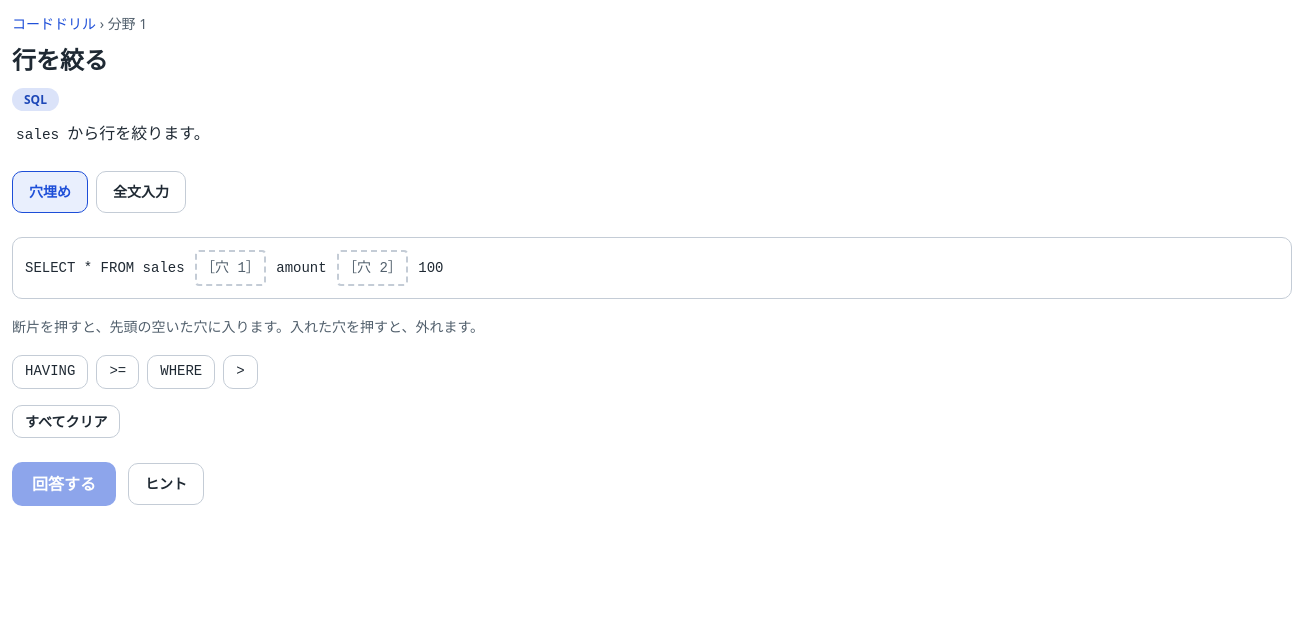
it: CodeDrillPlayer(全文入力) › ヒント_1 回目は穴を伏せたコード_2 回目で最初の穴を明かす_入力欄は書き換えない
The image size is (1304, 628).
Click the tab "全文入力": (141, 192) top-left (96, 171), bottom-right (186, 213)
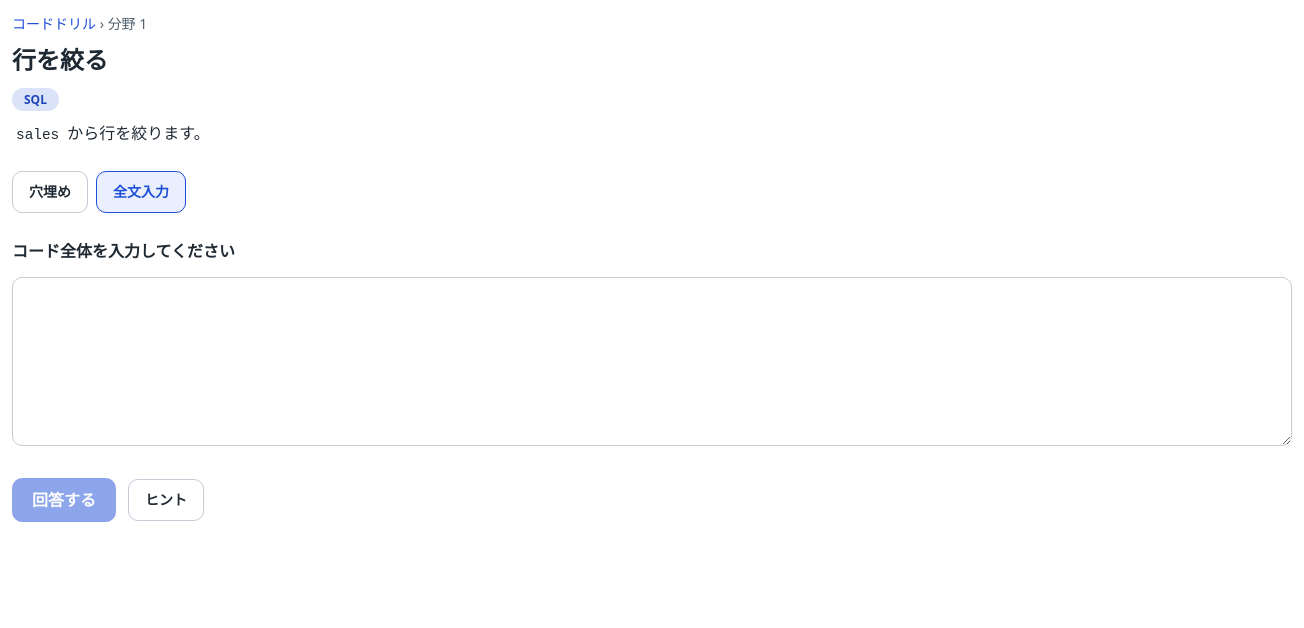
In the text box labelled "コード全体を入力してください": (652, 361) top-left (12, 277), bottom-right (1292, 446), type "書きかけ"
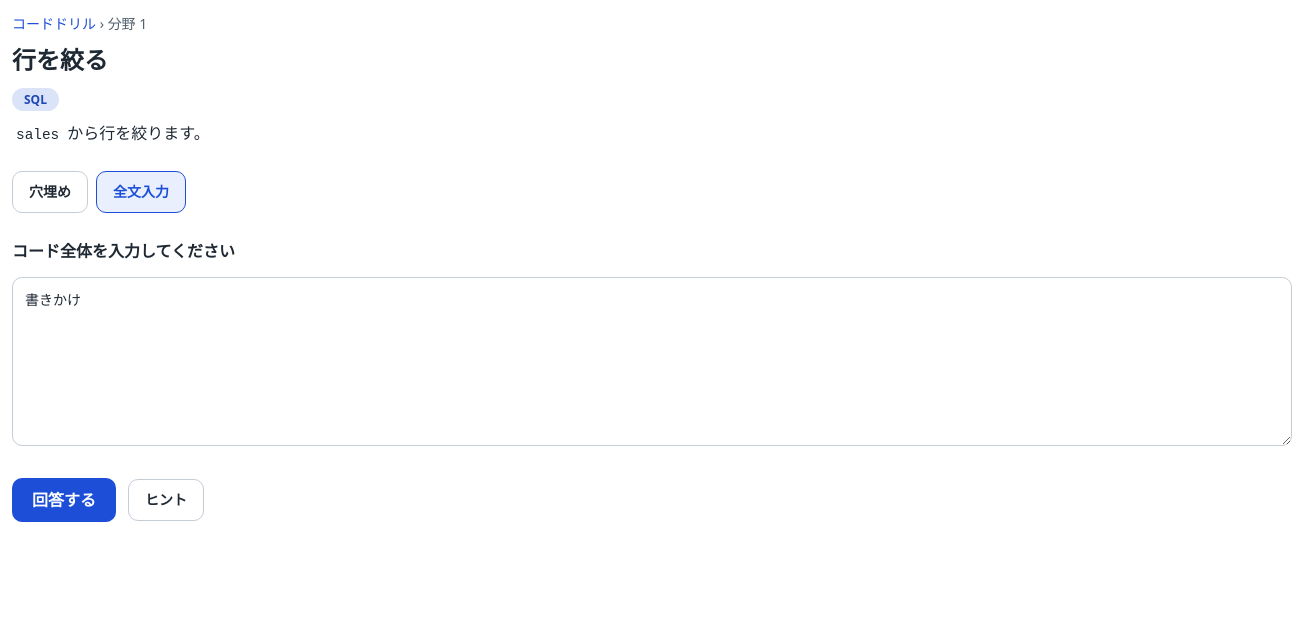
Click the button "ヒント": (166, 500) top-left (128, 479), bottom-right (204, 521)
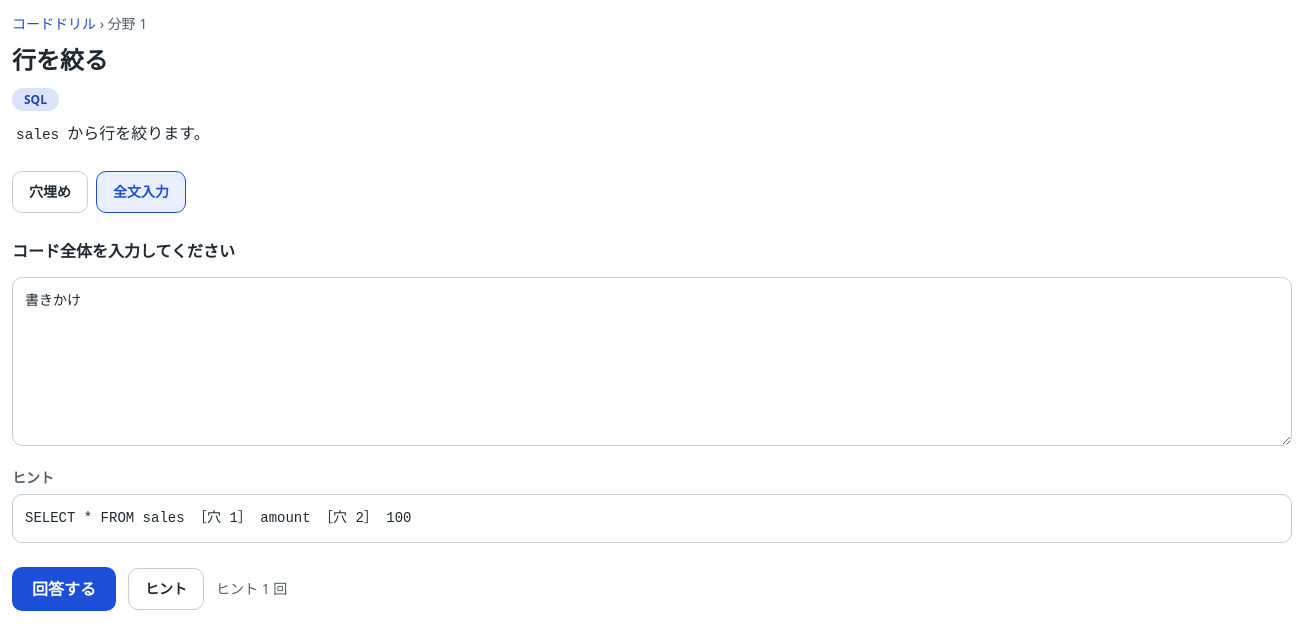
Check: the element named "ヒントのコード" reads "SELECT * FROM sales ［穴 1］ amount ［穴 2］ 100", box top-left (25, 510), bottom-right (412, 526)
Click the button "ヒント": (166, 589) top-left (128, 568), bottom-right (204, 610)
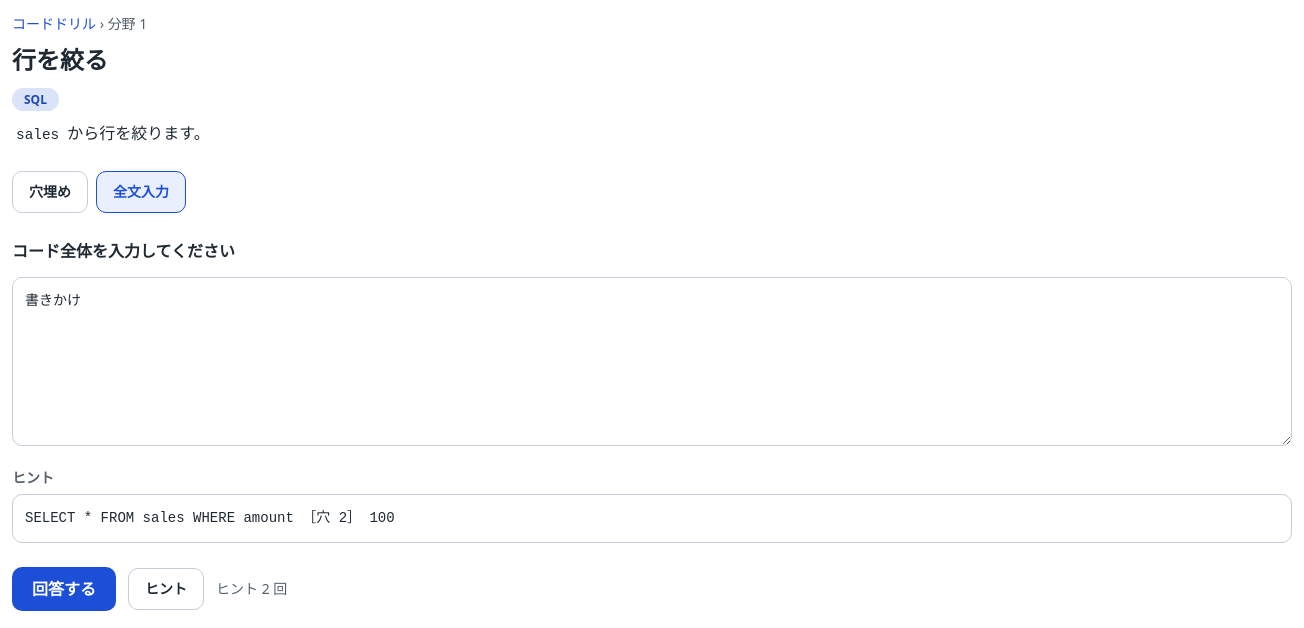
Check: the element named "ヒントのコード" reads "SELECT * FROM sales WHERE amount ［穴 2］ 100", box top-left (25, 510), bottom-right (395, 526)
